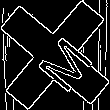M_NW: (21, 21, 89, 89)
